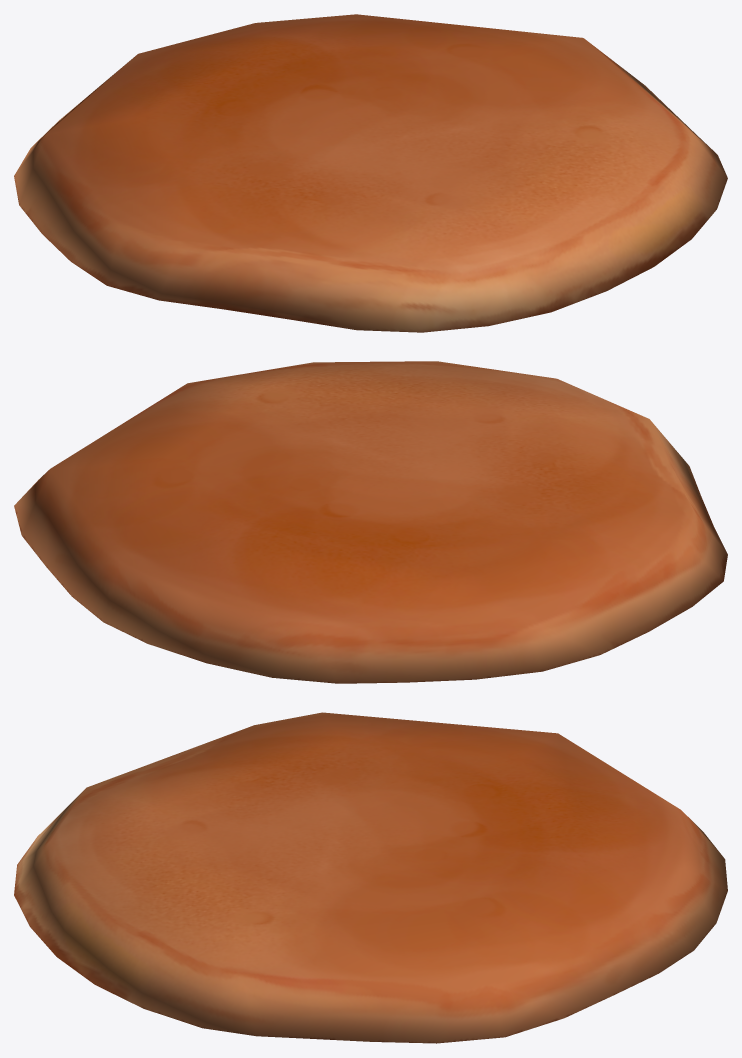
Rendered from pancakesolo.fbx.
3 renders of one model, top to bottom at view 1: azimuth 30°, elevation 25°; view 2: azimuth 150°, elevation 25°; view 3: azimuth 270°, elevation 25°, orthographic. The views are drawn at different scales.
Parts seen in each view (by area): view 1: pancakesolo; view 2: pancakesolo; view 3: pancakesolo.
Part boxes in pixels (bbox=[...]): pancakesolo: bbox=[14, 14, 727, 332]; pancakesolo: bbox=[14, 361, 727, 683]; pancakesolo: bbox=[14, 712, 727, 1043].
Bounding box in the file's own units: 31.37 × 3.02 × 31.12.
